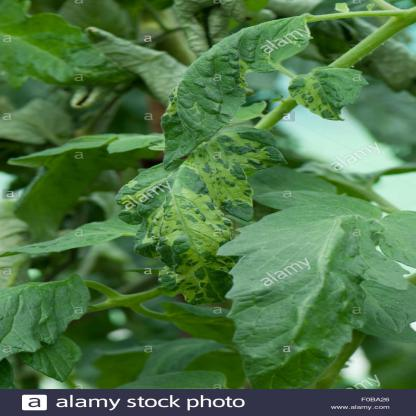Tomato leaf mosaic virus: (215, 197, 399, 373), (118, 111, 270, 307), (143, 13, 311, 162), (273, 69, 364, 126)
